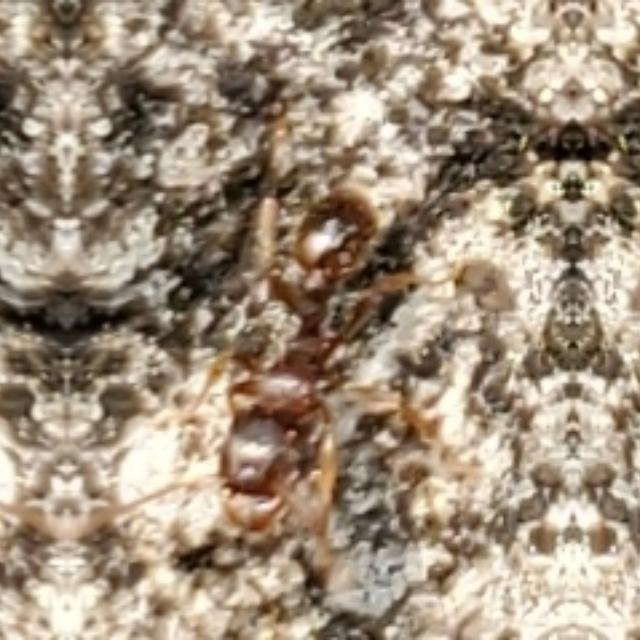Tetramorium: (164, 184, 432, 568)
